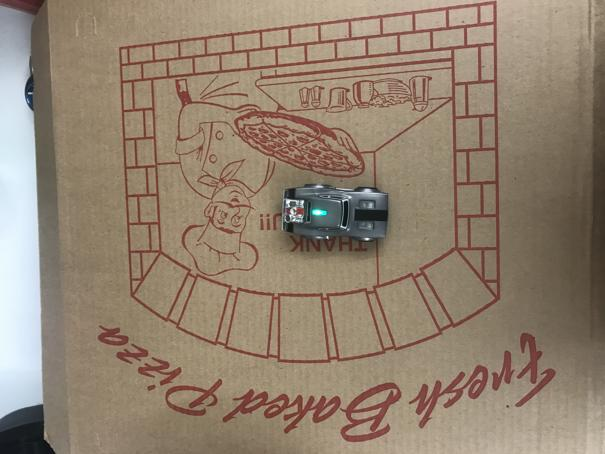Charger: (279, 180, 391, 244)
